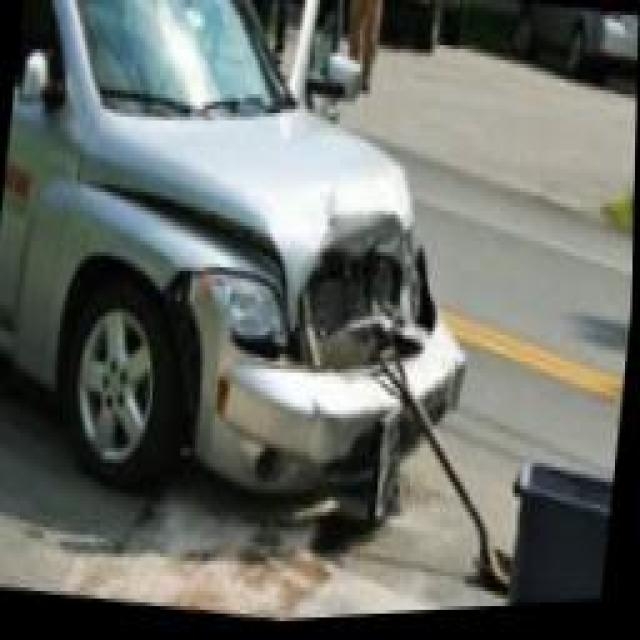Bonnet: (252, 144, 414, 321)
Bumper: (189, 257, 468, 499)
